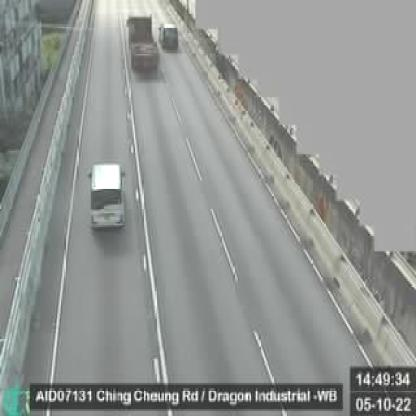Car: (87, 161, 125, 231), (158, 23, 176, 52)
Truck: (125, 14, 156, 73)
